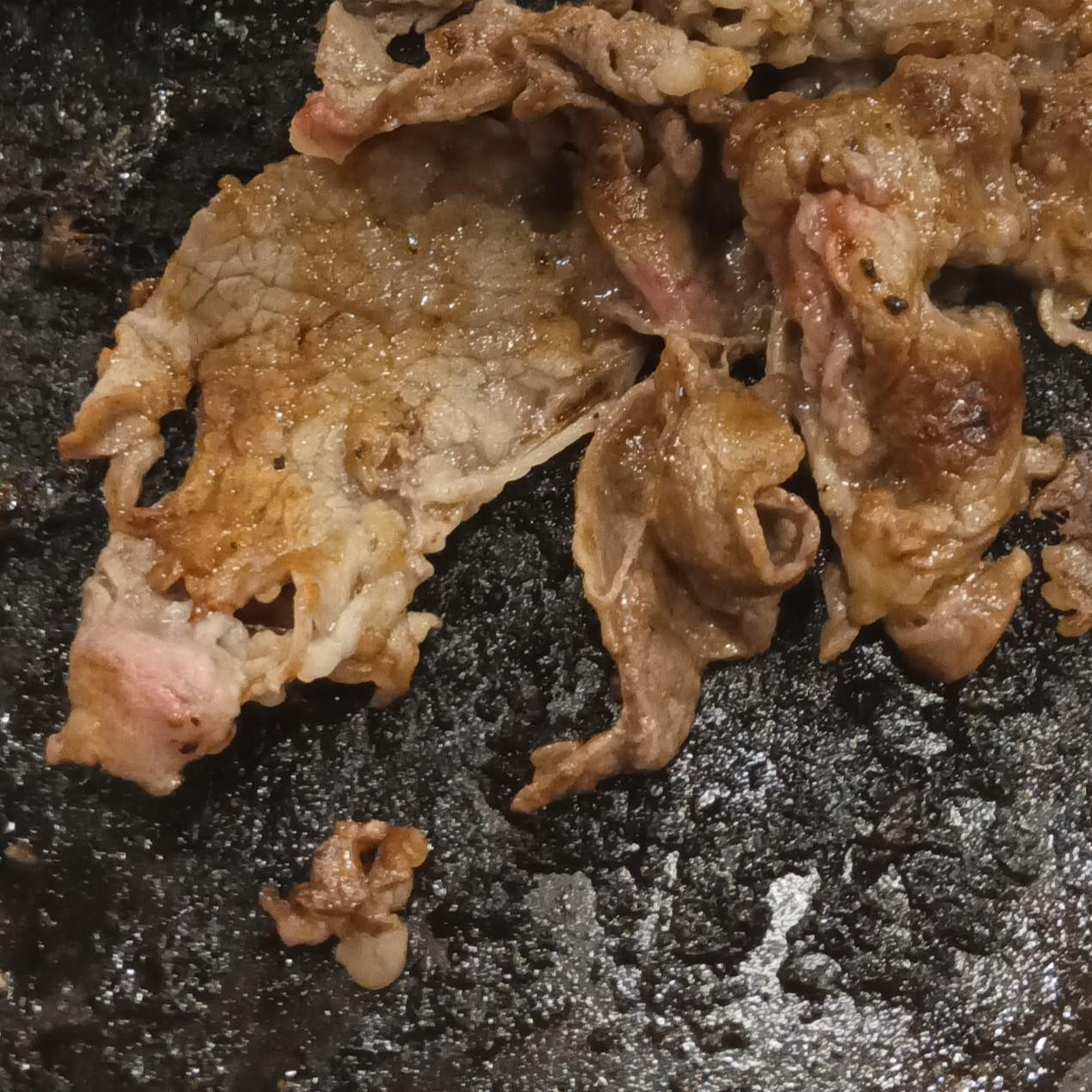Well-Cooked: (45, 0, 1091, 822)
